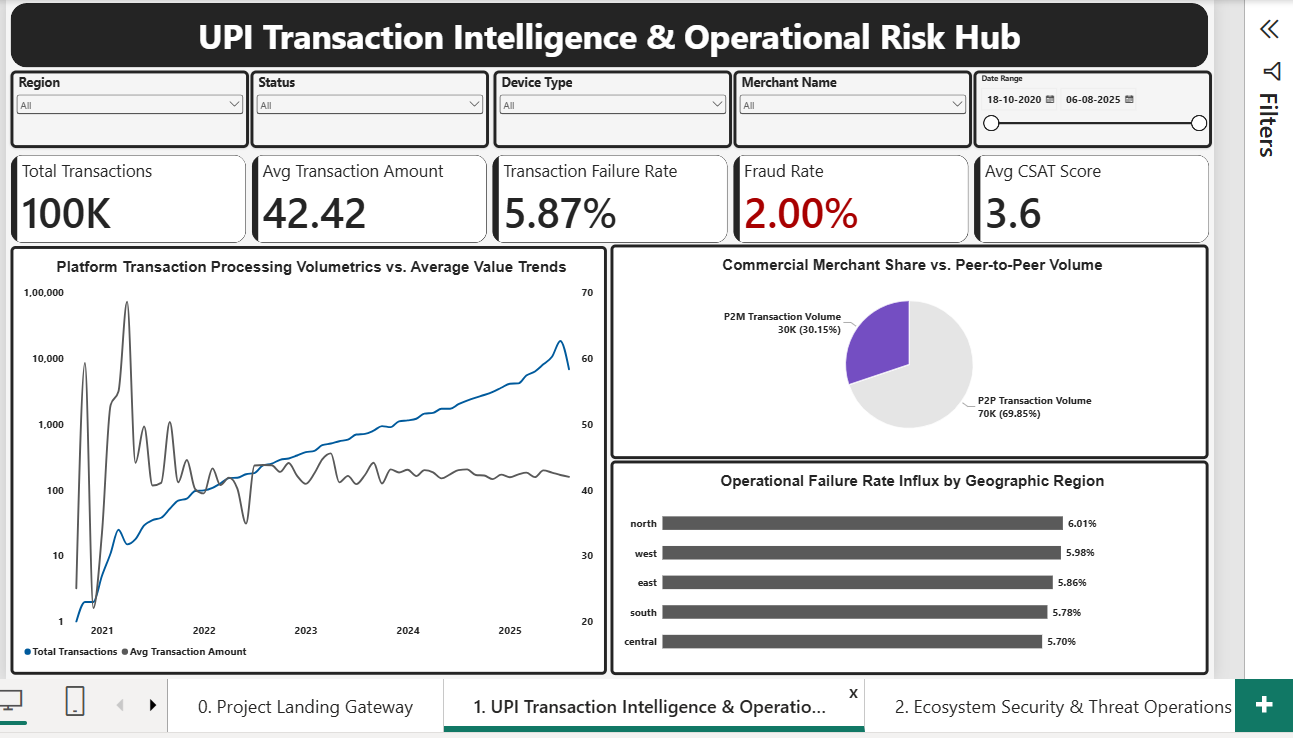

The dashboard page shown, as its layout file describes it:
{"tool":"powerbi","page":{"name":"1. UPI Transaction Intelligence & Operational Risk Hub","canvas":[1920,1080],"ordinal":1},"visuals":[{"type":"cardVisual","fields":{"Data":["_All Measures.Total Transactions","_All Measures.Avg Transaction Amount","_All Measures.Transaction Failure Rate","_All Measures.Fraud Rate","_All Measures.Avg CSAT Score"]},"box":[7.7,246.2,1910.3,141],"z":0},{"type":"lineChart","title":"Platform Transaction Processing Volumetrics vs. Average Value Trends","fields":{"Y":["_All Measures.Total Transactions"],"Category":["upi_analytics_db upi_transaction_history.timestamp.Variation.Date Hierarchy.Year","upi_analytics_db upi_transaction_history.timestamp.Variation.Date Hierarchy.Month"],"Y2":["_All Measures.Avg Transaction Amount"]},"box":[7.7,392.3,948.7,682.1],"z":1000},{"type":"shape","box":[7.7,5.1,1905.1,102.6],"z":2000},{"type":"pieChart","title":"Commercial Merchant Share vs. Peer-to-Peer Volume","fields":{"Y":["_All Measures.P2P Transaction Volume","_All Measures.P2M Transaction Volume"]},"box":[961.5,389.7,951.3,341],"z":3000},{"type":"clusteredBarChart","title":"Operational Failure Rate Influx by Geographic Region","fields":{"Category":["upi_analytics_db customer_master.region"],"Y":["_All Measures.Transaction Failure Rate"]},"box":[961.5,733.3,951.3,341],"z":4000},{"type":"slicer","fields":{"Values":["upi_analytics_db customer_master.region"]},"box":[7.7,112.8,379.5,123.1],"z":5000},{"type":"slicer","fields":{"Values":["upi_analytics_db device_info.device_type"]},"box":[774.4,112.8,379.5,123.1],"z":6000},{"type":"slicer","fields":{"Values":["upi_analytics_db merchant_info.merchant_name"]},"box":[1156.4,112.8,379.5,123.1],"z":7000},{"type":"slicer","fields":{"Values":["upi_analytics_db upi_transaction_history.status"]},"box":[389.7,112.8,379.5,123.1],"z":8000},{"type":"slicer","fields":{"Values":["upi_analytics_db upi_transaction_history.timestamp"]},"box":[1538.5,112.8,379.5,123.1],"z":9000}]}

Visuals, with their boxes on the page's 1920x1080 design canvas (x1, y1, x2, y2). These are canvas units, not pixel positions in the 1293x738 screenshot, which may show the page scaled, cropped or inside an application window:
cardVisual - _All Measures.Total Transactions x _All Measures.Avg Transaction Amount: crop(8, 246, 1918, 387)
"Platform Transaction Processing Volumetrics vs. Average Value Trends" lineChart: crop(8, 392, 956, 1074)
shape: crop(8, 5, 1913, 108)
"Commercial Merchant Share vs. Peer-to-Peer Volume" pieChart: crop(962, 390, 1913, 731)
"Operational Failure Rate Influx by Geographic Region" clusteredBarChart: crop(962, 733, 1913, 1074)
slicer - upi_analytics_db customer_master.region: crop(8, 113, 387, 236)
slicer - upi_analytics_db device_info.device_type: crop(774, 113, 1154, 236)
slicer - upi_analytics_db merchant_info.merchant_name: crop(1156, 113, 1536, 236)
slicer - upi_analytics_db upi_transaction_history.status: crop(390, 113, 769, 236)
slicer - upi_analytics_db upi_transaction_history.timestamp: crop(1538, 113, 1918, 236)
